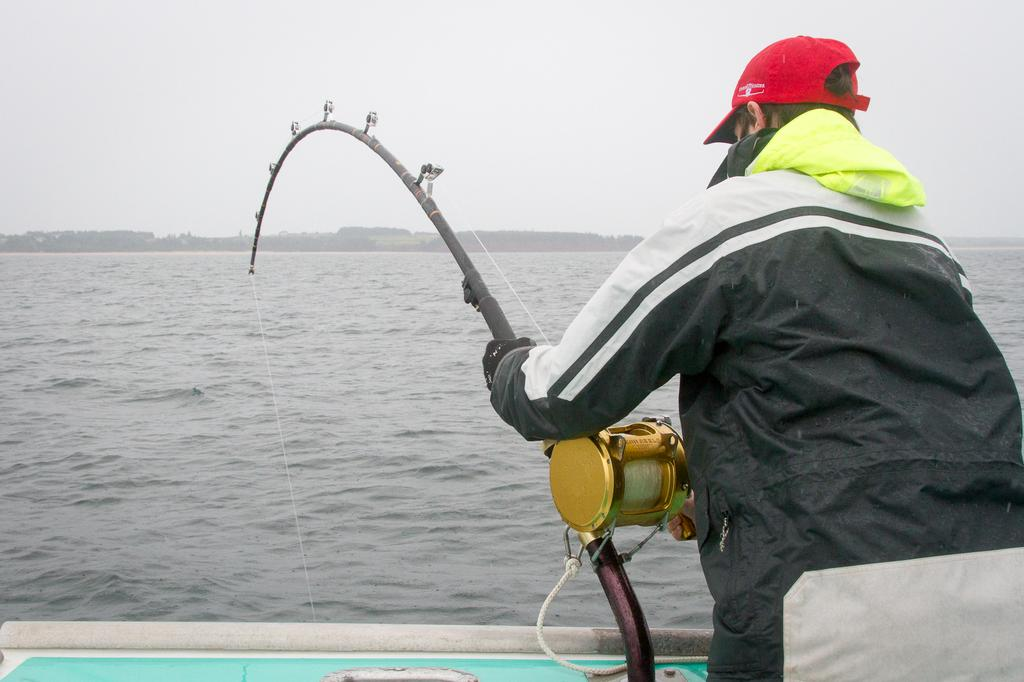Hat: (724, 35, 872, 153)
